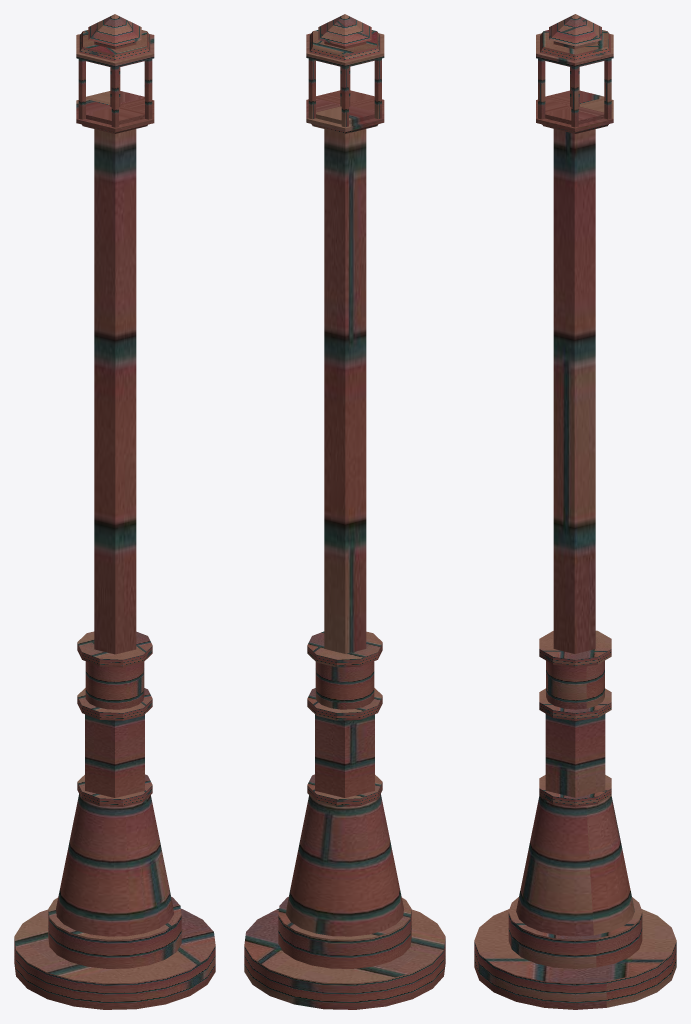
Rendered from GAITOU.fbx.
3 views of the same model, side by side, from view 1: azimuth 30°, elevation 25°; view 2: azimuth 150°, elevation 25°; view 3: azimuth 270°, elevation 25° (orthographic).
Parts seen in each view (by area): view 1: pCylinder21, pCylinder11, pCylinder14, pCylinder13, pCylinder10, pasted__pasted__pCylinder20, pasted__pCylinder12 (×2), polySurface3, pCone3, pasted__pasted__pCylinder19, pCylinder12; view 2: pCylinder21, pCylinder11, pCylinder14, pCylinder13, pCylinder10, pasted__pasted__pCylinder20, pasted__pCylinder12 (×2), polySurface3, pCone3, pasted__pasted__pCylinder19, pCylinder12; view 3: pCylinder21, pCylinder11, pCylinder14, pCylinder13, pCylinder10, pasted__pasted__pCylinder20, pasted__pCylinder12 (×2), polySurface3, pCone3, pasted__pasted__pCylinder19, pCylinder12.
Part boxes in pixels (x1,y1,x2,y2): pCylinder21: (94,129,136,654); pCylinder11: (56,794,173,936); pCylinder14: (14,908,215,1009); pCylinder13: (48,897,181,968); pCylinder10: (85,714,144,797); pasted__pasted__pCylinder20: (76,34,154,132); pasted__pCylinder12 (×2): (77,631,152,720); polySurface3: (85,661,144,709); pCone3: (88,14,141,46); pasted__pasted__pCylinder19: (79,30,150,61); pCylinder12: (77,774,152,806); pCylinder21: (324,129,366,653); pCylinder11: (286,794,403,936); pCylinder14: (244,908,445,1009); pCylinder13: (278,897,411,968); pCylinder10: (315,714,374,797); pasted__pasted__pCylinder20: (306,33,384,131); pasted__pCylinder12 (×2): (307,631,382,720); polySurface3: (315,661,374,709); pCone3: (318,14,371,46); pasted__pasted__pCylinder19: (309,30,380,61); pCylinder12: (307,774,382,806); pCylinder21: (553,129,595,653); pCylinder11: (516,796,634,936); pCylinder14: (474,909,676,1009); pCylinder13: (508,897,642,968); pCylinder10: (545,714,605,797); pasted__pasted__pCylinder20: (536,33,613,132); pasted__pCylinder12 (×2): (539,630,611,720); polySurface3: (546,660,604,709); pCone3: (549,14,601,46); pasted__pasted__pCylinder19: (540,30,610,61); pCylinder12: (539,775,611,807).
Size of the model in its own units: 3.02 by 15.71 by 3.02.
1 material, 1 textured.
